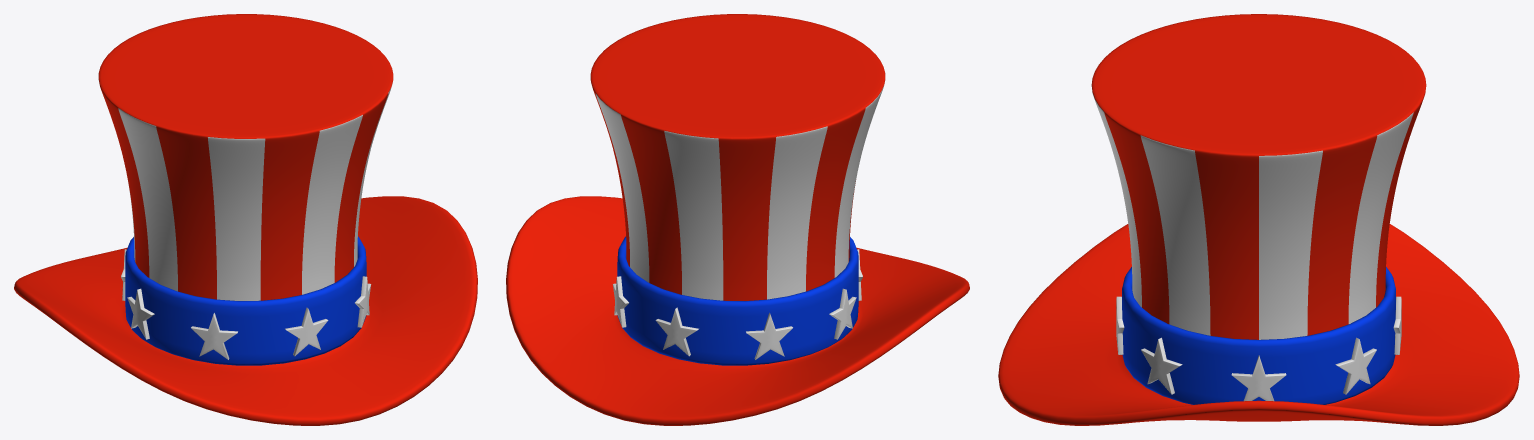
Rendered from Uncle Sam Hat.fbx.
3 renders of one model, left to right at view 1: azimuth 30°, elevation 25°; view 2: azimuth 150°, elevation 25°; view 3: azimuth 270°, elevation 25°, orthographic. The views are drawn at different scales.
Visible parts, largest first — view 1: Circle, Circle.001, Circle.002; view 2: Circle, Circle.001, Circle.002; view 3: Circle, Circle.001, Circle.002.
Part boxes in pixels (left/top/right/bottom): Circle: left=14, top=14, right=477, bottom=425; Circle.001: left=125, top=236, right=366, bottom=365; Circle.002: left=121, top=249, right=371, bottom=359; Circle: left=506, top=14, right=969, bottom=425; Circle.001: left=617, top=236, right=858, bottom=365; Circle.002: left=612, top=249, right=862, bottom=359; Circle: left=998, top=14, right=1519, bottom=425; Circle.001: left=1122, top=267, right=1395, bottom=404; Circle.002: left=1116, top=296, right=1401, bottom=401.
Bounding box in the file's own units: 197 × 122 × 194.
